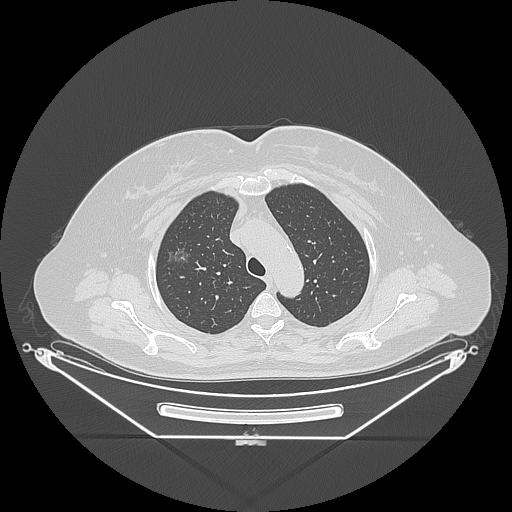nodule: (167, 249, 190, 262)
